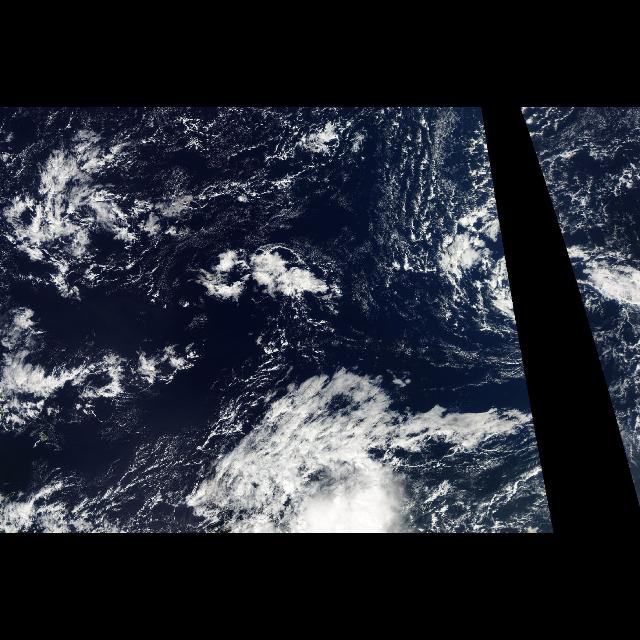Gravel: (362, 113, 461, 297)
Sugar: (31, 113, 520, 320), (520, 113, 634, 320)
